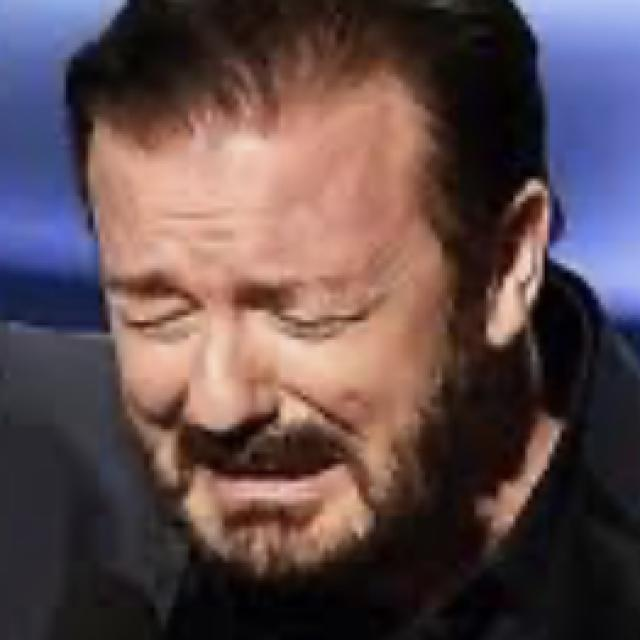sad: (50, 55, 487, 586)
